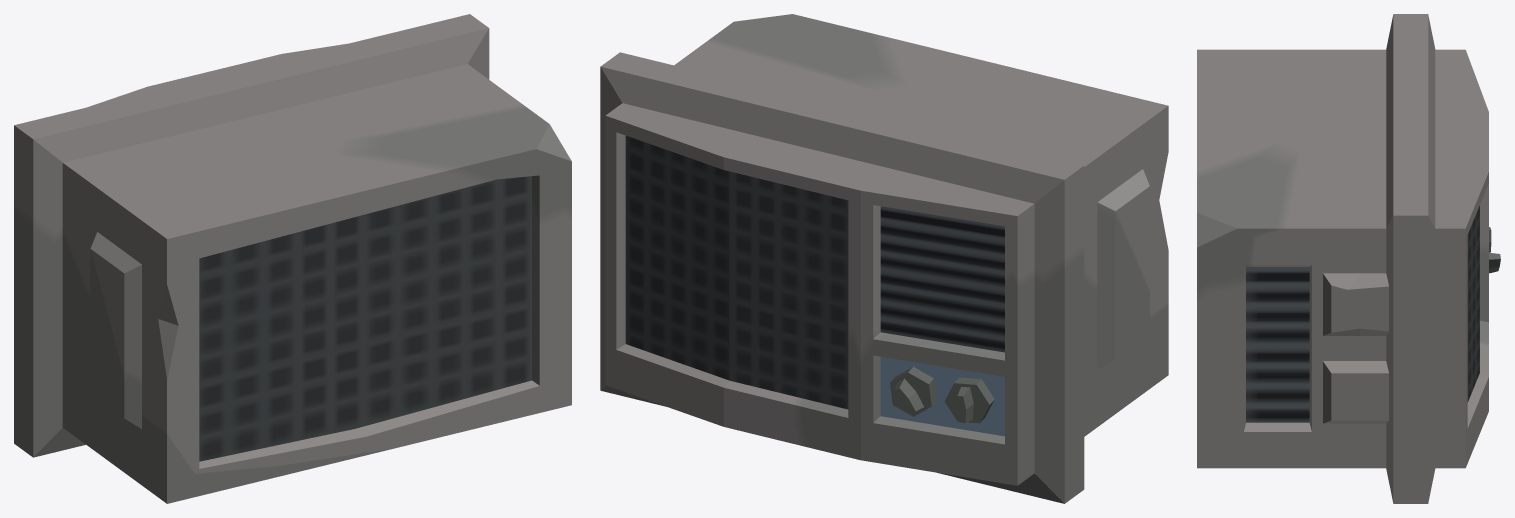
Rendered from SM_Prop_Airconditioner_06.glb.
3 views of the same model, side by side, from view 1: azimuth 30°, elevation 25°; view 2: azimuth 150°, elevation 25°; view 3: azimuth 270°, elevation 25° (orthographic). The views are drawn at different scales.
Parts seen in each view (by area): view 1: SM_Prop_Airconditioner_06; view 2: SM_Prop_Airconditioner_06; view 3: SM_Prop_Airconditioner_06.
Boxes of the visible parts, bbox=[...] form: SM_Prop_Airconditioner_06: bbox=[14, 14, 571, 503]; SM_Prop_Airconditioner_06: bbox=[600, 14, 1168, 503]; SM_Prop_Airconditioner_06: bbox=[1197, 14, 1500, 503].
Size of the model in its own units: 1.11 by 0.7377 by 0.7043.
Materials: 1 (1 with a texture image).
